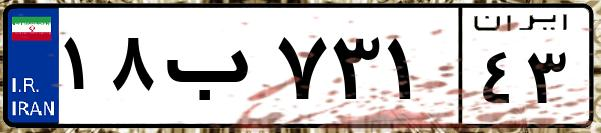1: (385, 28, 445, 110), (57, 26, 110, 100)
3: (330, 28, 385, 110), (525, 38, 570, 115)
4: (475, 38, 525, 113)
7: (270, 28, 330, 110)
8: (110, 28, 158, 98)
ب: (158, 20, 270, 120)
